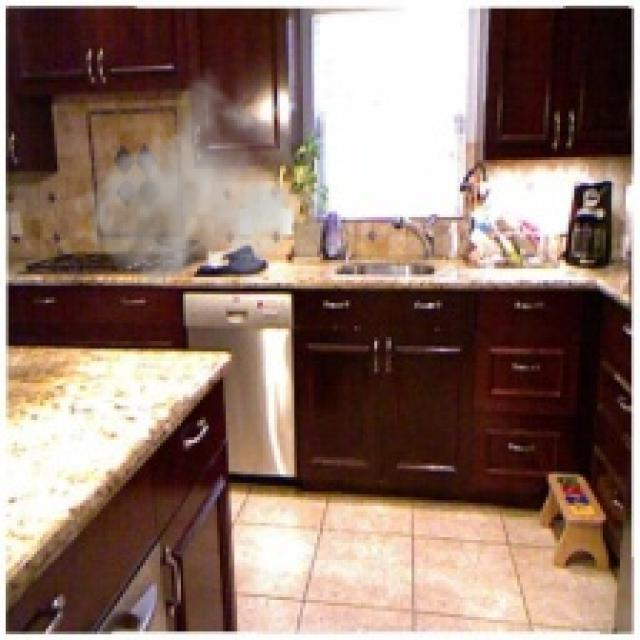Smoke: (69, 63, 308, 306)
